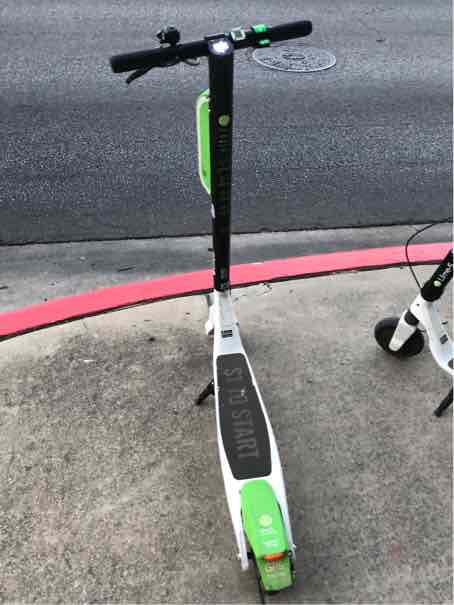scooter: (95, 11, 347, 605)
